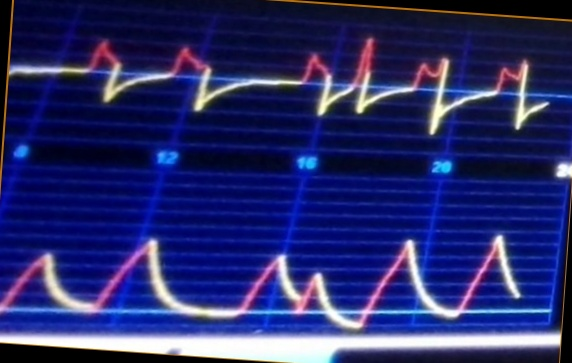Double_Triggering Flow: (13, 33, 549, 139)
Double_Triggering Volume: (1, 228, 523, 331)
